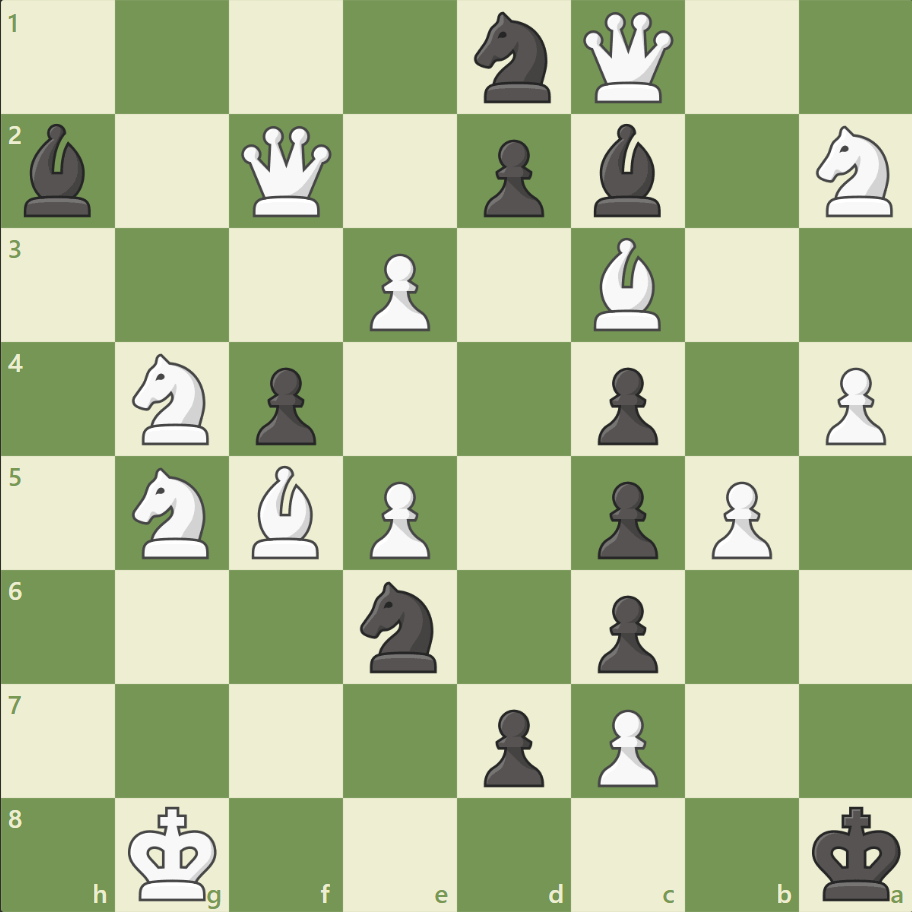B: (244, 460, 328, 563), (585, 233, 669, 336)
K: (124, 798, 224, 906)
N: (124, 461, 222, 564), (124, 348, 222, 450), (806, 121, 903, 223)
P: (701, 473, 776, 564), (588, 700, 662, 791), (361, 473, 435, 564), (815, 359, 889, 450), (361, 246, 435, 337)
Q: (237, 122, 336, 222), (578, 9, 677, 108)
b: (585, 120, 669, 222), (17, 120, 101, 222)
k: (806, 798, 906, 906)
n: (351, 575, 449, 677), (465, 7, 562, 110)
p: (474, 700, 549, 791), (247, 359, 322, 450), (474, 132, 549, 223), (588, 586, 662, 677), (588, 473, 662, 564), (588, 359, 662, 450)
